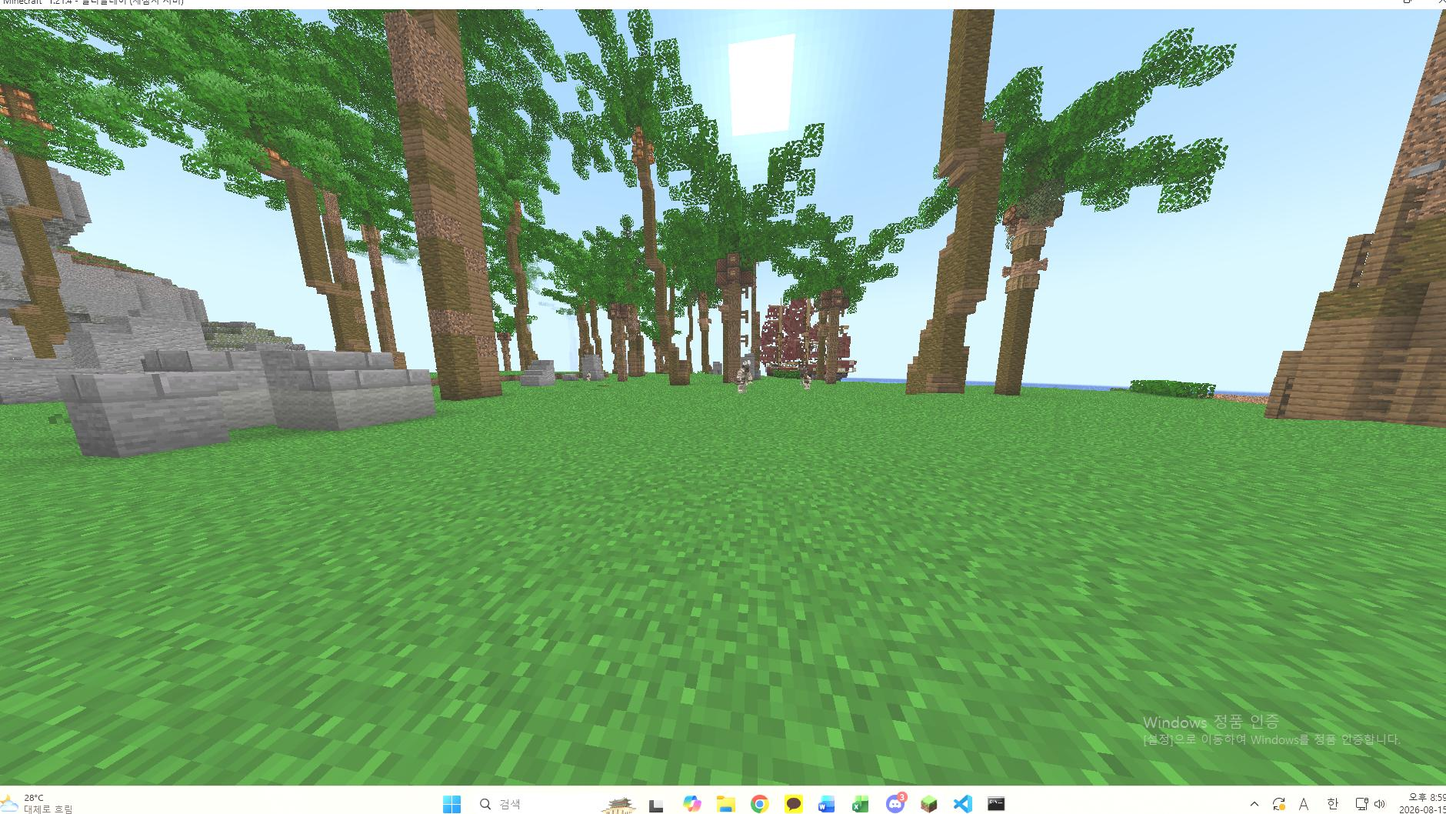bow_indian: (724, 352, 767, 412)
